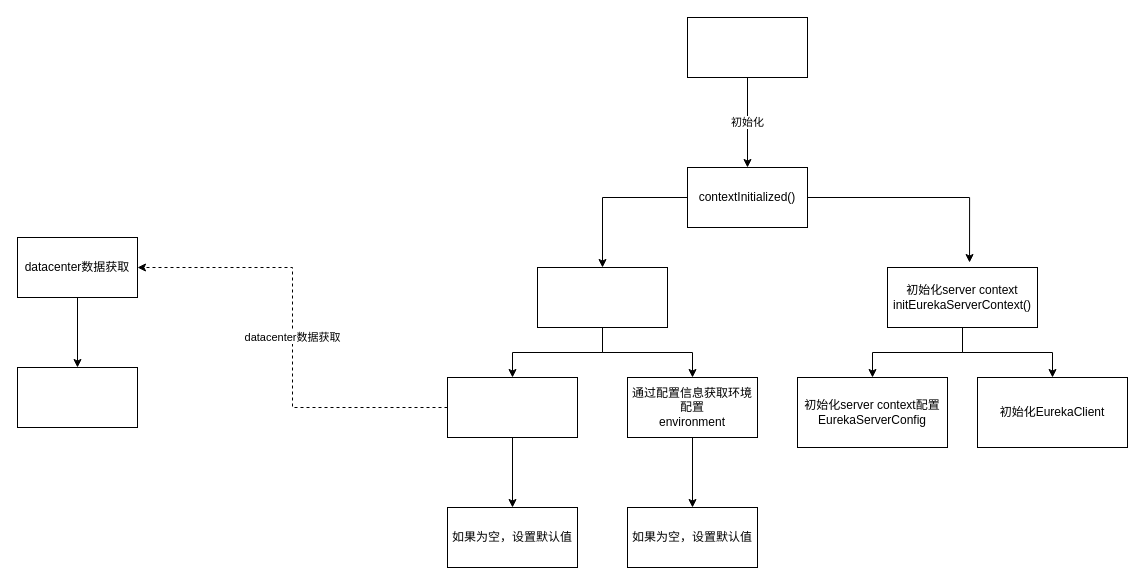
The diagram is 1145 pixels wide and 585 high, and some of its shapes have lost their labels. Here are the shapes that lost their labels. From the top down, the centre of each, then its label:
the point at 747,47: 启动类加载 EurekaBootStrap
the point at 602,297: 初始化环境 initEurekaEnviroment()
the point at 77,397: 获取单例配置信息AbstractConfiguration
the point at 512,407: 通过配置信息获取配置中心数据 datacenter
